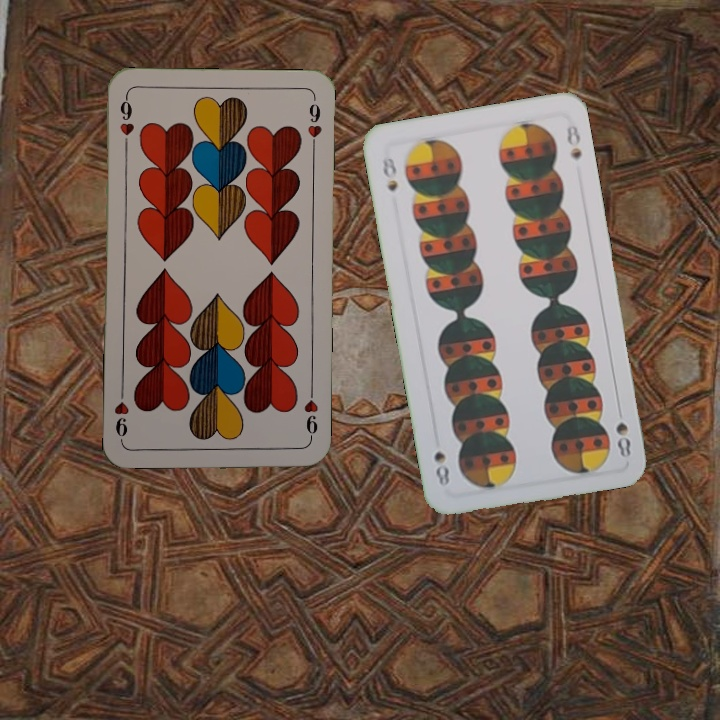H9: (115, 92, 136, 151), (300, 385, 321, 444)
S8: (378, 153, 400, 195), (612, 418, 633, 460)
